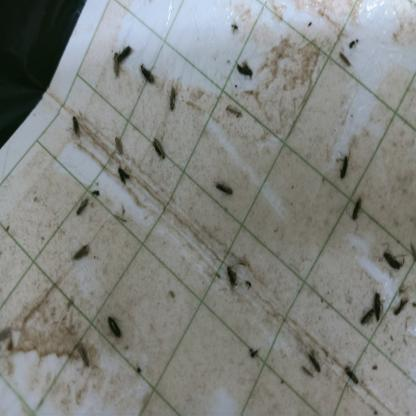prays_oleae: (376, 241, 409, 278), (104, 306, 128, 347), (305, 339, 324, 381), (233, 54, 256, 88), (213, 174, 237, 204), (112, 44, 132, 78), (220, 262, 242, 292), (334, 149, 352, 181), (150, 134, 167, 167), (343, 361, 365, 386), (115, 160, 132, 192), (348, 197, 367, 224), (392, 296, 410, 324), (137, 61, 155, 87), (352, 308, 374, 329), (75, 191, 91, 219), (165, 86, 180, 115), (371, 292, 385, 320), (111, 132, 126, 158), (72, 110, 84, 139)
